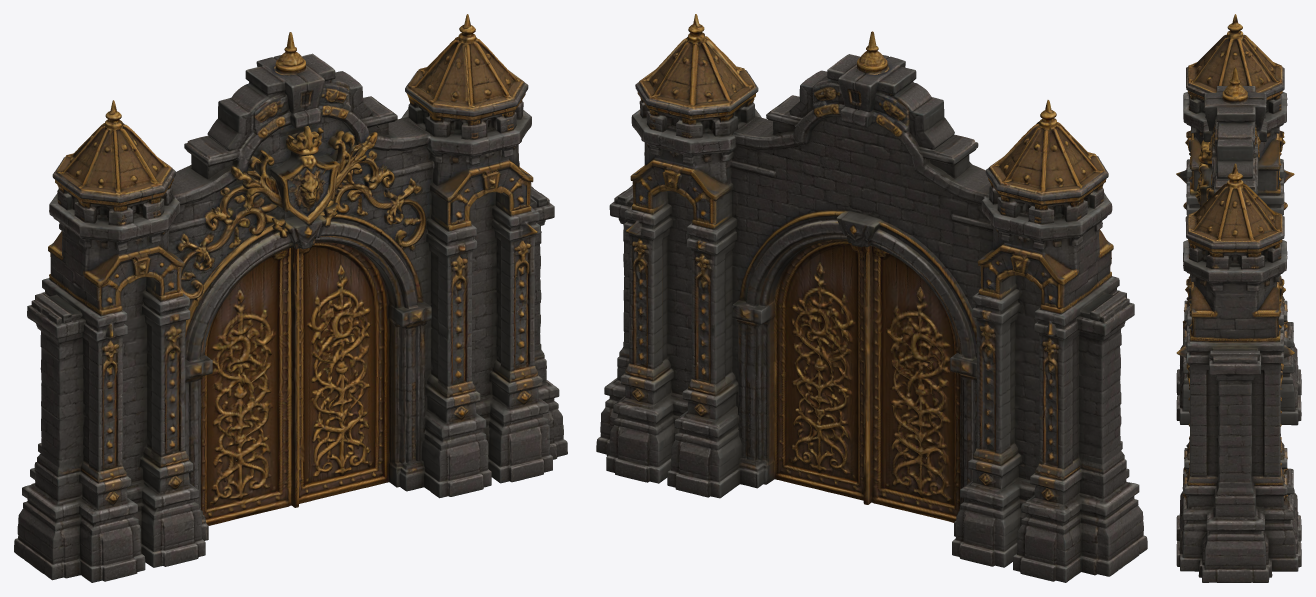
The model's file is apostolic-portao-animavel.glb.
3 views of the same model, side by side, from view 1: azimuth 30°, elevation 25°; view 2: azimuth 150°, elevation 25°; view 3: azimuth 270°, elevation 25° (orthographic). The views are drawn at different scales.
Parts seen in each view (by area): view 1: Gate_Frame, Gate_Door_R, Gate_Door_L; view 2: Gate_Frame, Gate_Door_R, Gate_Door_L; view 3: Gate_Frame.
Boxes of the visible parts, bbox=[...] form: Gate_Frame: bbox=[14, 14, 567, 582]; Gate_Door_R: bbox=[294, 214, 423, 507]; Gate_Door_L: bbox=[190, 220, 310, 540]; Gate_Frame: bbox=[596, 14, 1147, 582]; Gate_Door_R: bbox=[741, 213, 867, 504]; Gate_Door_L: bbox=[852, 217, 971, 536]; Gate_Frame: bbox=[1176, 14, 1301, 582].
Size of the model in its own units: 1 by 0.8724 by 0.2435.
1 material, 1 textured.
